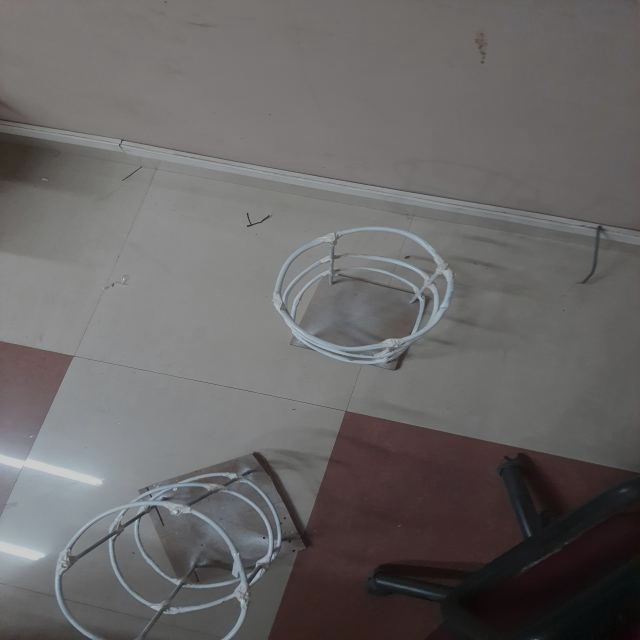silo: (60, 453, 318, 640), (264, 226, 462, 375)
